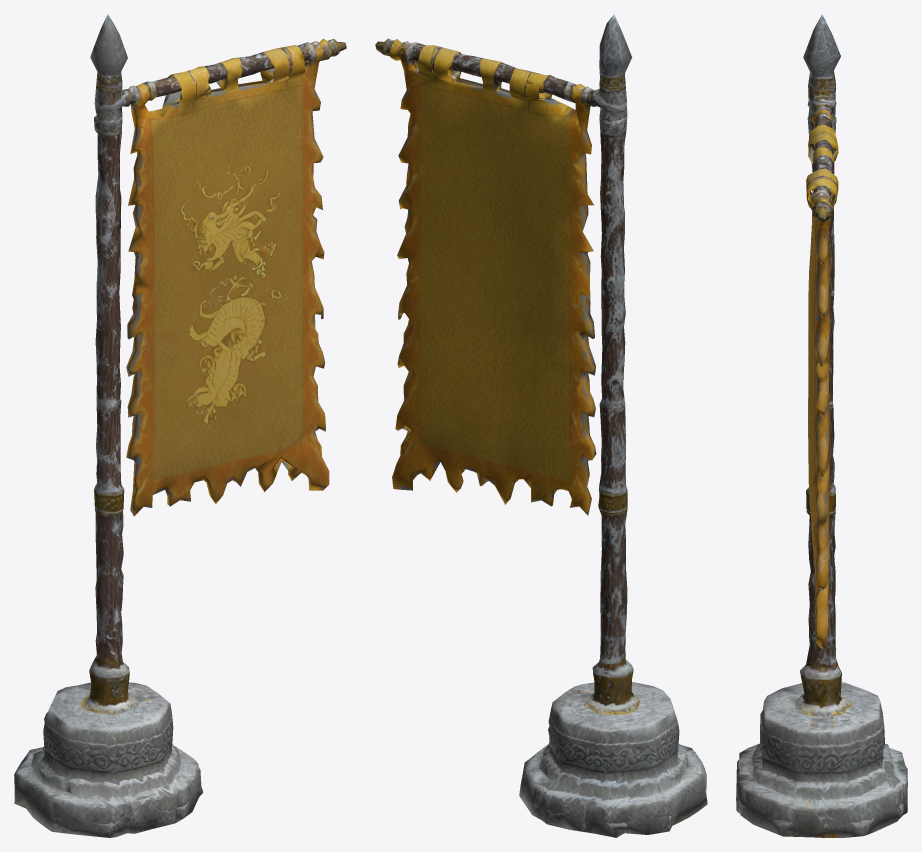
The model's file is PR_ObangFlag_Yellow.fbx.
3 views of the same model, side by side, from view 1: azimuth 30°, elevation 25°; view 2: azimuth 150°, elevation 25°; view 3: azimuth 270°, elevation 25° (orthographic).
Parts seen in each view (by area): view 1: texture_mapping; view 2: texture_mapping; view 3: texture_mapping.
Part boxes in pixels (box(x1,y1,x2,y2)): texture_mapping: box(14, 14, 346, 837); texture_mapping: box(375, 14, 707, 837); texture_mapping: box(736, 14, 907, 837).
Bounding box in the file's own units: 0.4163 × 0.1979 × 1.
1 material, 1 textured.
